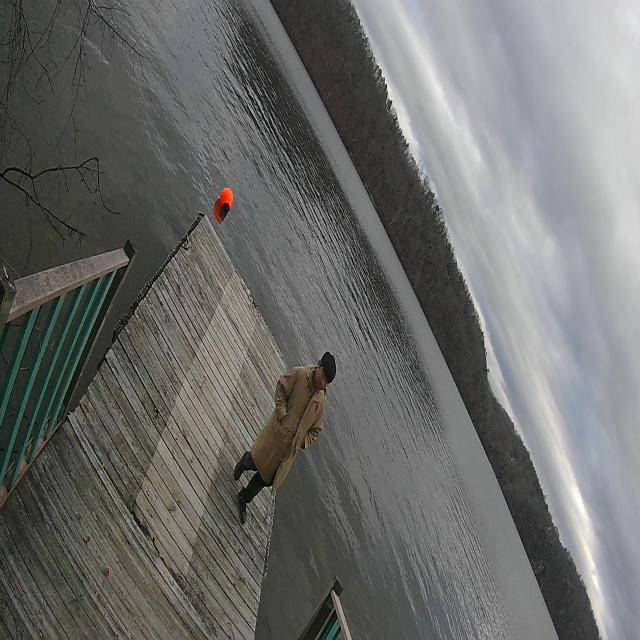Buoy: (213, 167, 241, 232)
